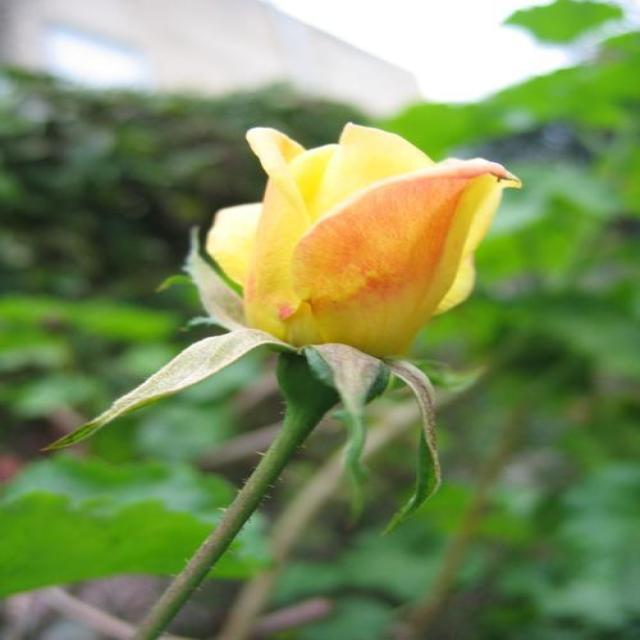rose: (168, 84, 542, 505)
